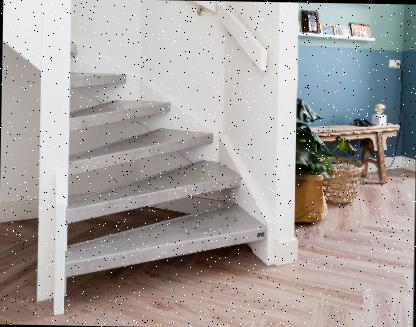stair: (62, 50, 266, 280)
